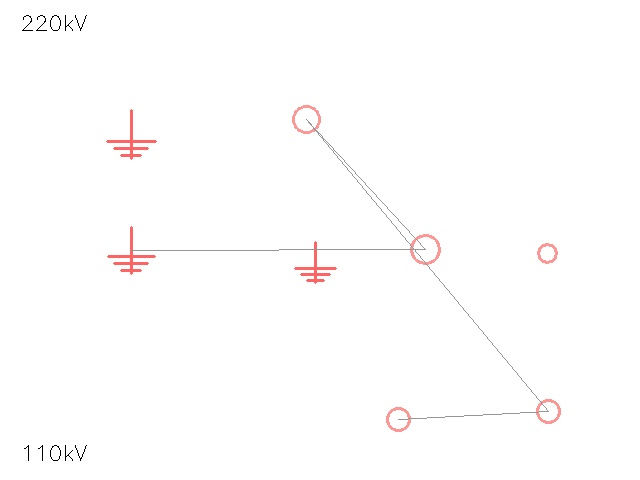current_transformer: (376, 397, 420, 441)
disconnect_switch: (280, 93, 332, 145)
feeder_terminal: (396, 220, 454, 278)
fuse: (529, 235, 565, 271)
ground: (107, 110, 155, 158), (108, 227, 154, 273), (295, 242, 335, 282)
surge_arrester: (525, 388, 571, 434)
